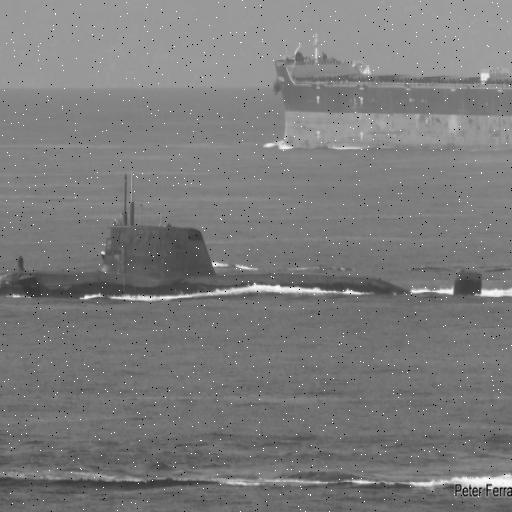submarine: (1, 204, 495, 301)
